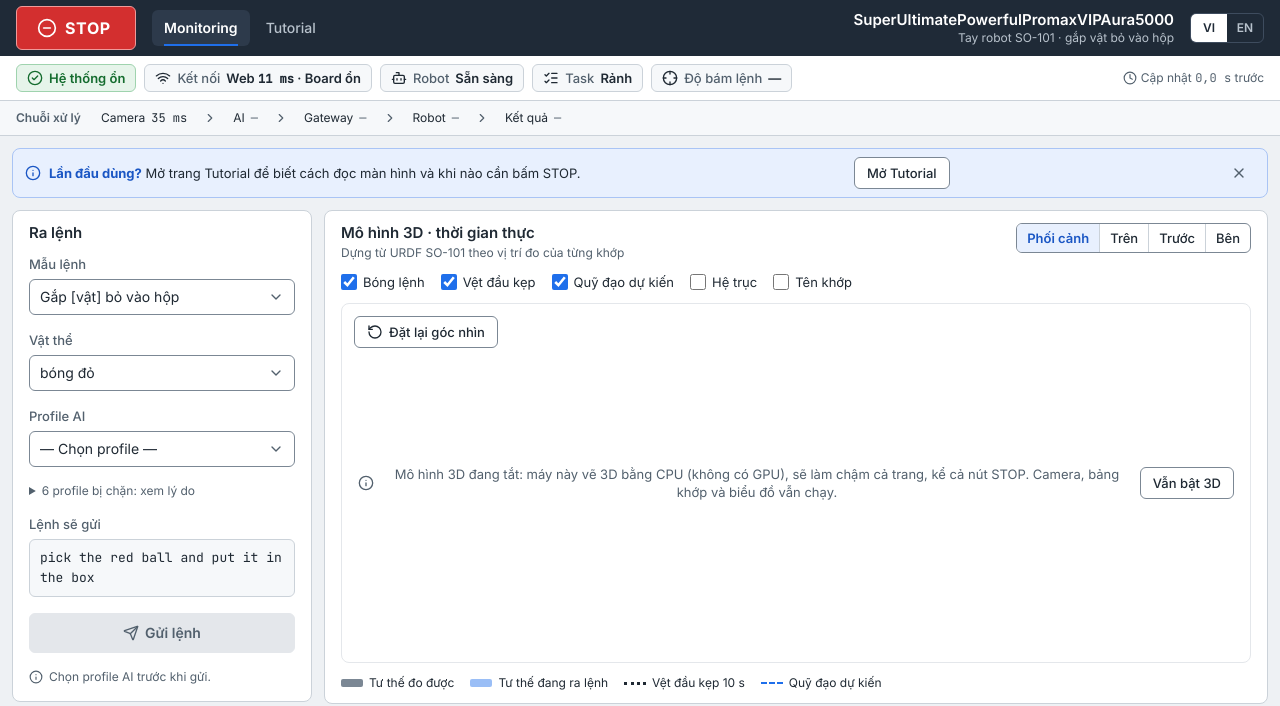
Test: App › shows the exact command, the NACK reason, and never a success state
The image size is (1280, 706).
Later steps or results of the test are not shown.
Expected: the element with test id "cmd-reason" reads "Chọn profile AI trước khi gửi.", [49,669,211,684]
Select "SmolVLA · FP16" in the dropdown labelled "Profile AI" at (162, 449), box [29,431,295,467]
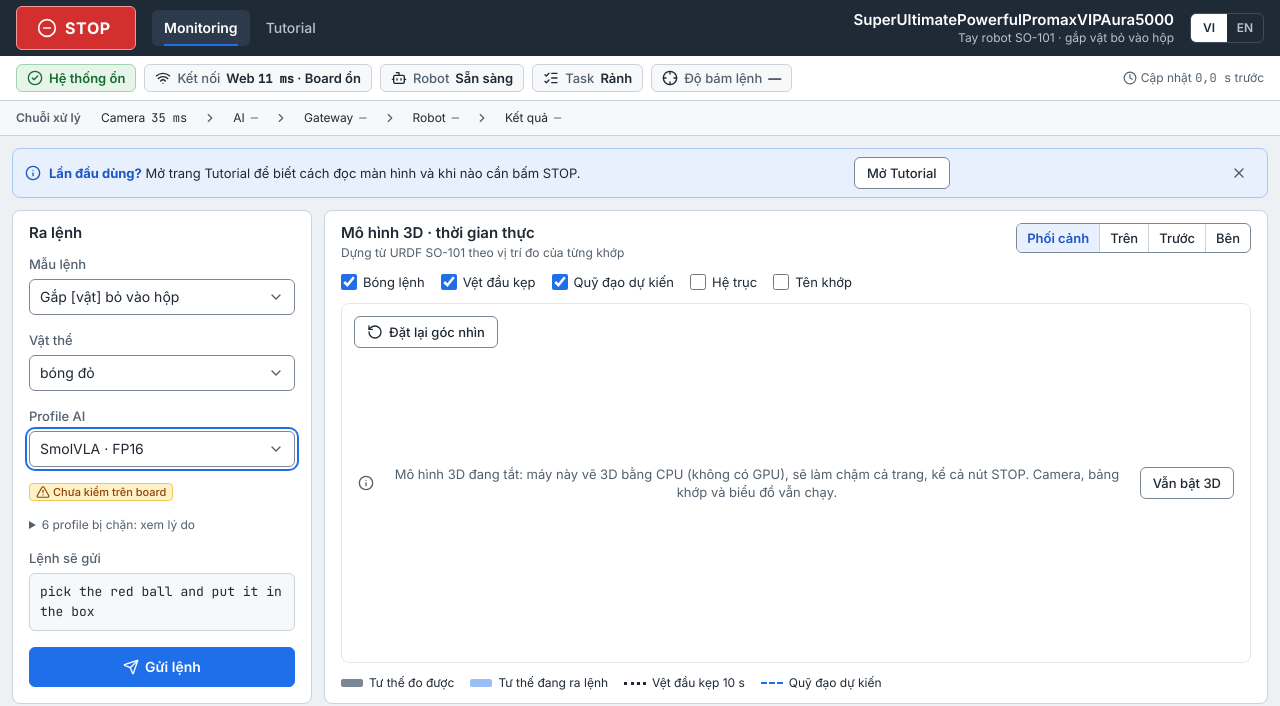
Expected: the text with test id "cmd-preview" reads "pick the red ball and put it in the box", [40,583,282,620]
Click the button "Gửi lệnh" at (162, 667), box [29,647,295,687]
Wait 300 ms
(page scrolled)
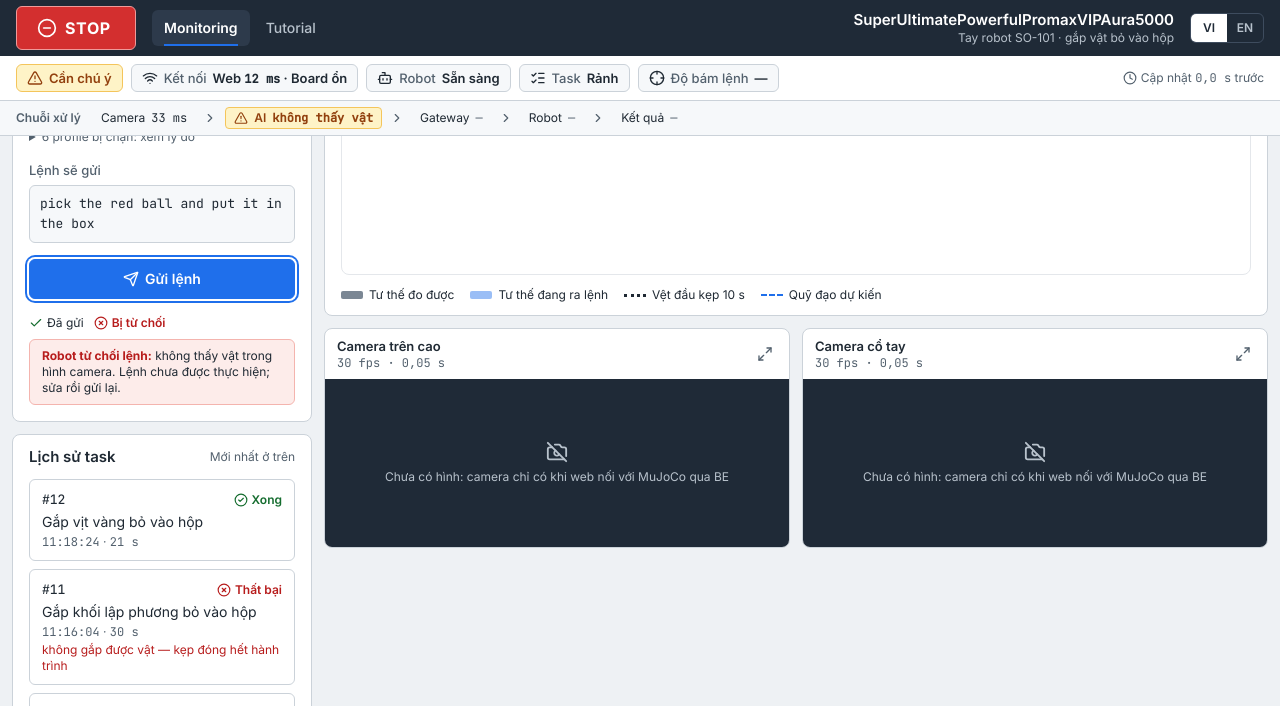
Expected: the element with test id "cmd-lifecycle" does not show "Xong", [29,315,295,405]
Expected: the element with test id "cmd-lifecycle" shows "không thấy vật trong hình camera", [42,348,272,379]
